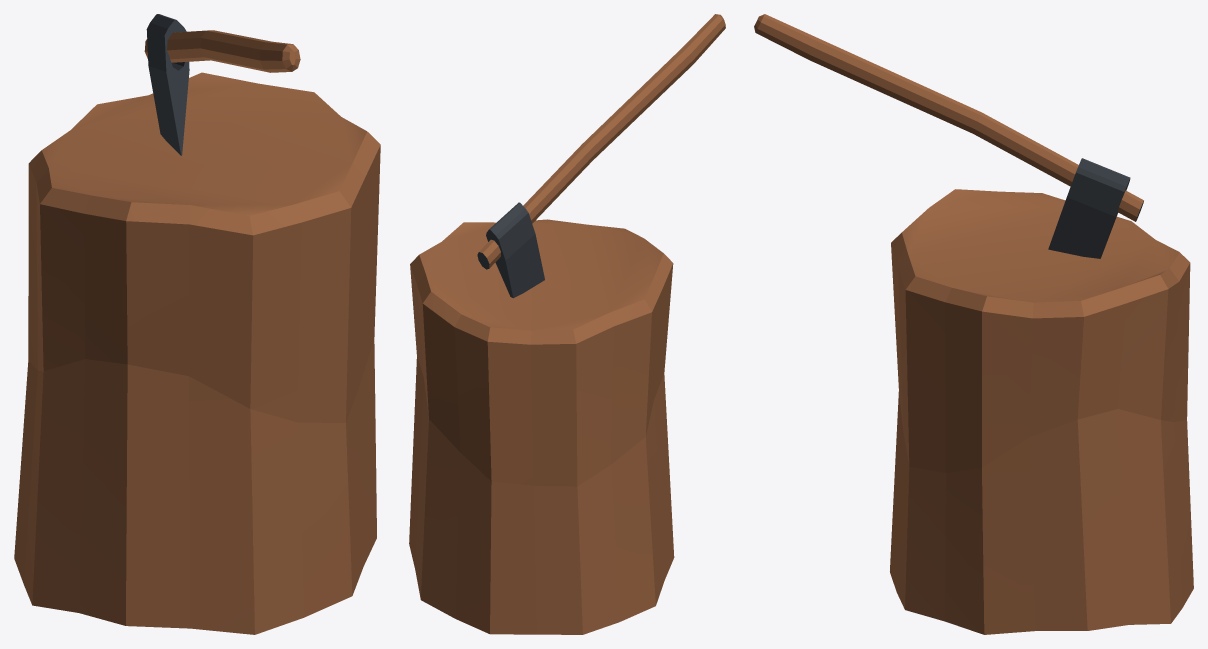
File: AxeAndStump.fbx
The picture shows the model from 3 angles, left to right: view 1: azimuth 30°, elevation 25°; view 2: azimuth 150°, elevation 25°; view 3: azimuth 270°, elevation 25°; orthographic projection. The views are drawn at different scales.
Visible parts, largest first — view 1: AxeAndStump; view 2: AxeAndStump; view 3: AxeAndStump.
Part boxes in pixels (x1,y1,x2,y2): AxeAndStump: (14,14,380,634); AxeAndStump: (409,14,725,634); AxeAndStump: (754,14,1193,634).
Size of the model in its own units: 1.09 by 2.23 by 1.61.
